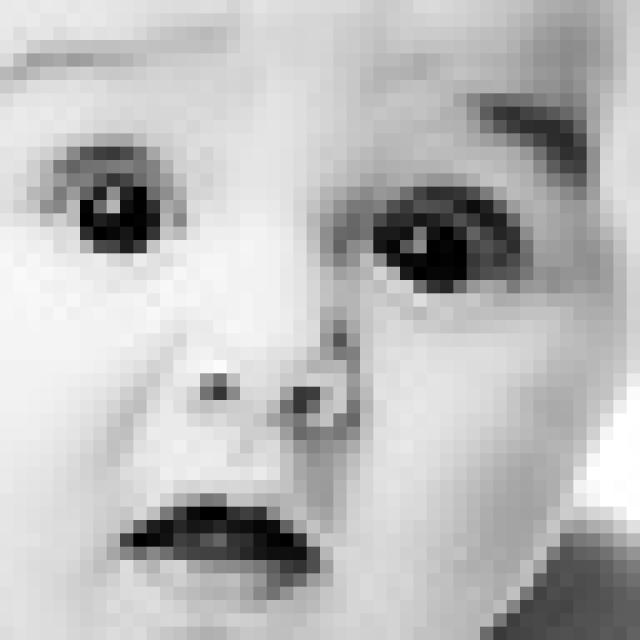surprise: (1, 36, 604, 640)
